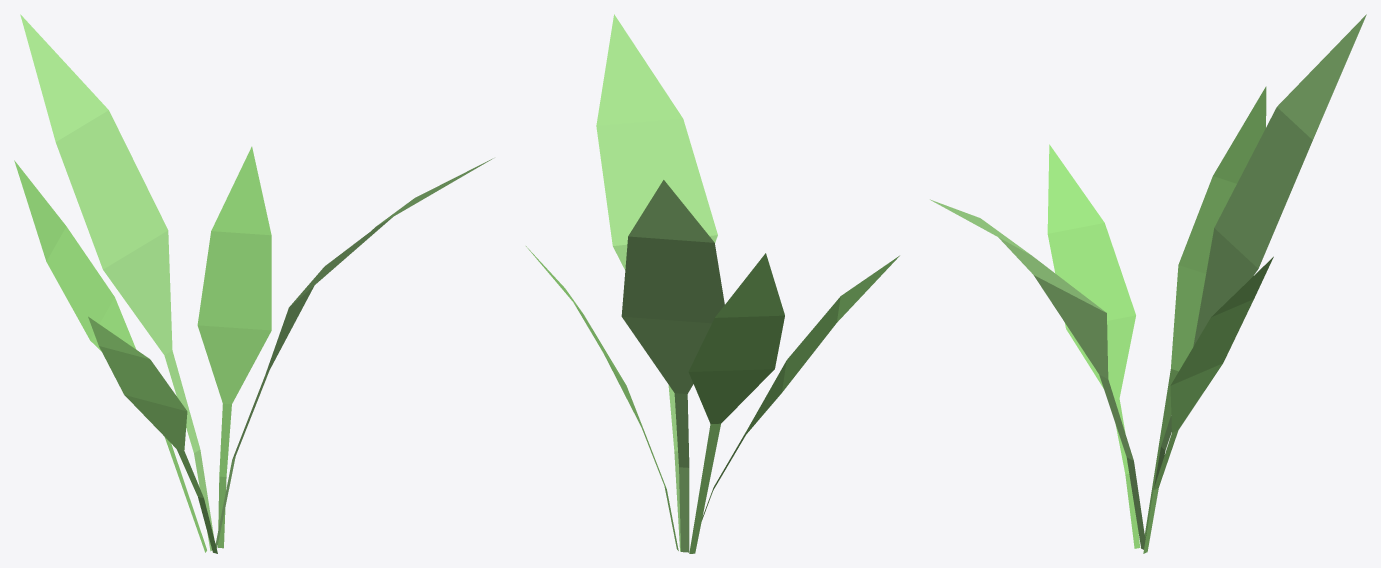
The model's file is Plant_g_TwoS_04.fbx.
The picture shows the model from 3 angles, left to right: view 1: azimuth 30°, elevation 25°; view 2: azimuth 150°, elevation 25°; view 3: azimuth 270°, elevation 25°; orthographic projection. The views are drawn at different scales.
Parts seen in each view (by area): view 1: Plant_g_TwoS_04; view 2: Plant_g_TwoS_04; view 3: Plant_g_TwoS_04.
Boxes of the visible parts, box(x1,y1,x2,y2) form: Plant_g_TwoS_04: box(14, 14, 493, 553); Plant_g_TwoS_04: box(526, 14, 899, 553); Plant_g_TwoS_04: box(930, 14, 1366, 553).
Size of the model in its own units: 41.43 by 54.19 by 43.67.
